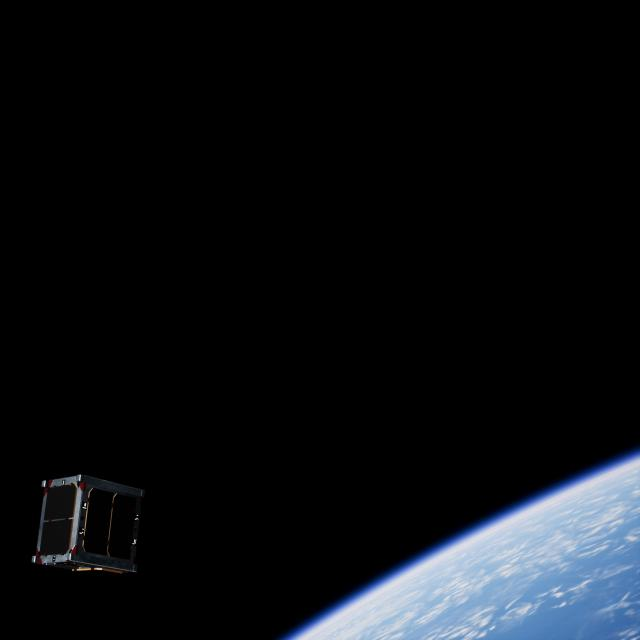medium_debris: (32, 474, 152, 584)
